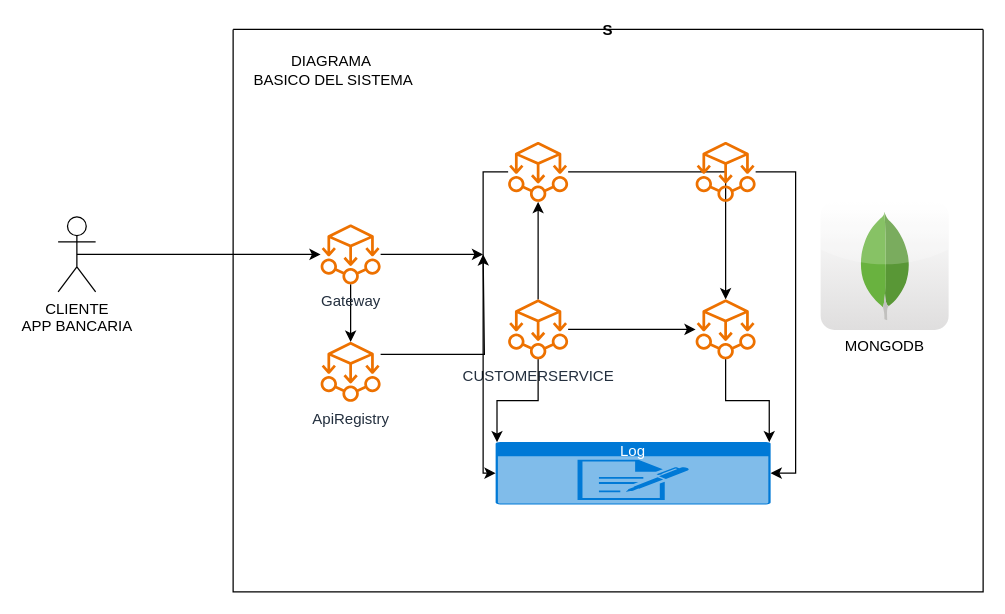
The diagram is 1005 pixels wide and 614 high, and some of its shapes have lost their labels. Here are the shapes that lost their labels. From the top down, the centre of each, then its label:
(x=538, y=171): ACCOUNTSERVICE
(x=725, y=171): CREDITSERVER
(x=725, y=329): TRANSACTIONSERVICE
